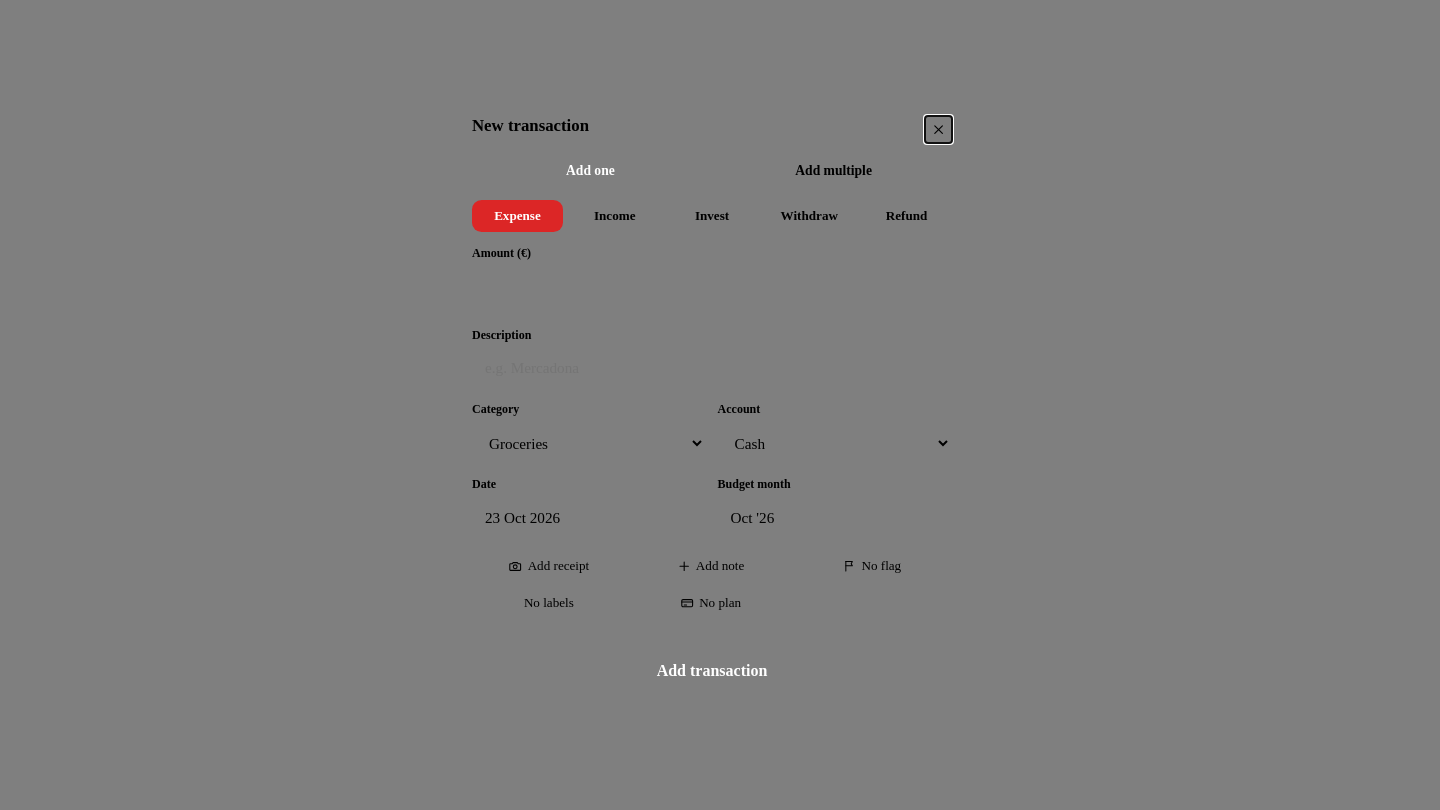
Scenario: TransactionModal — batch mode toggle › switches to the batch form and back via the toggle
This screenshot has width=1440, height=810.
Click the tab "Add multiple" at (834, 171), box [715,155,952,187]
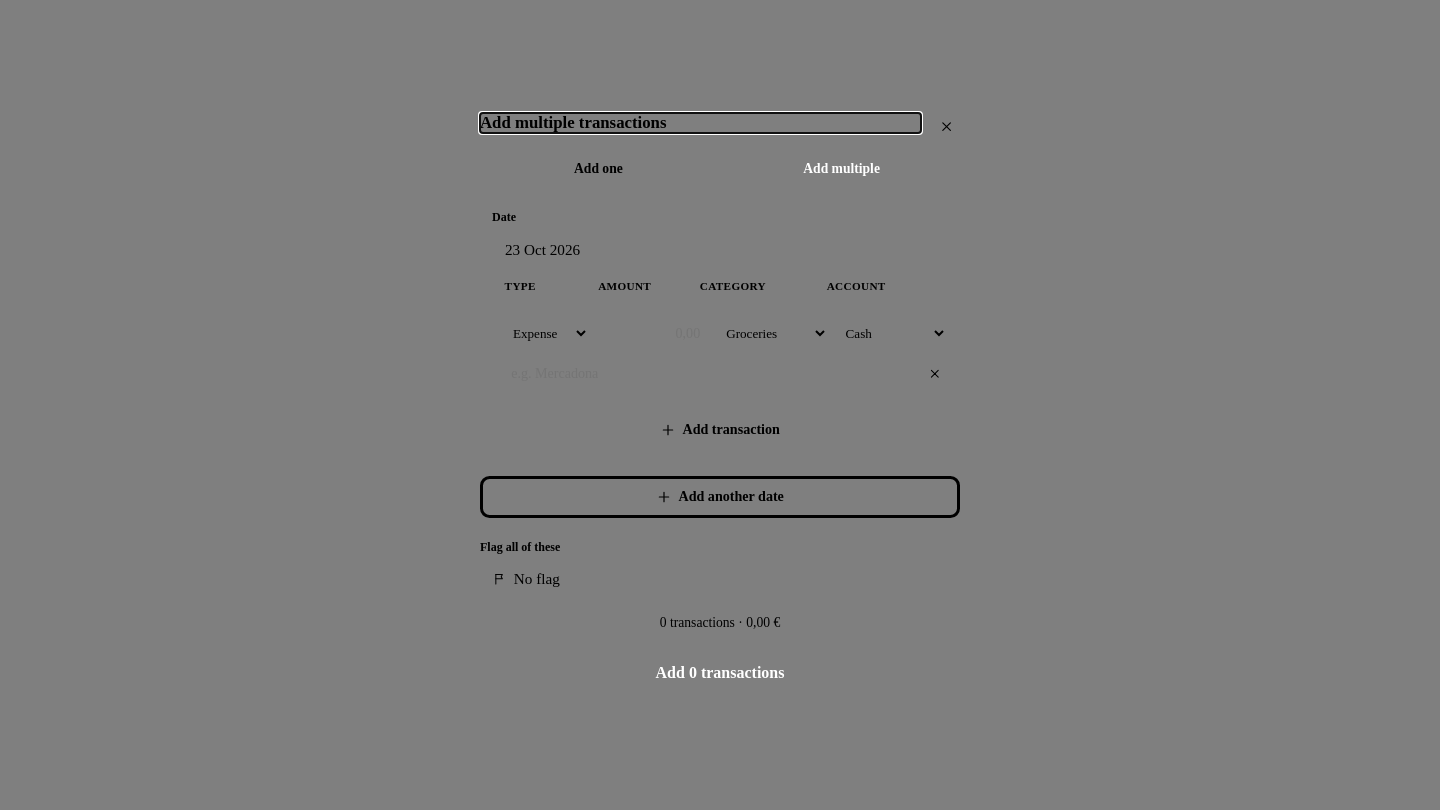
Now the heading "Add multiple transactions" is shown, box [480,114,666,132]
Click the tab "Add one" at (598, 169), box [480,153,717,185]
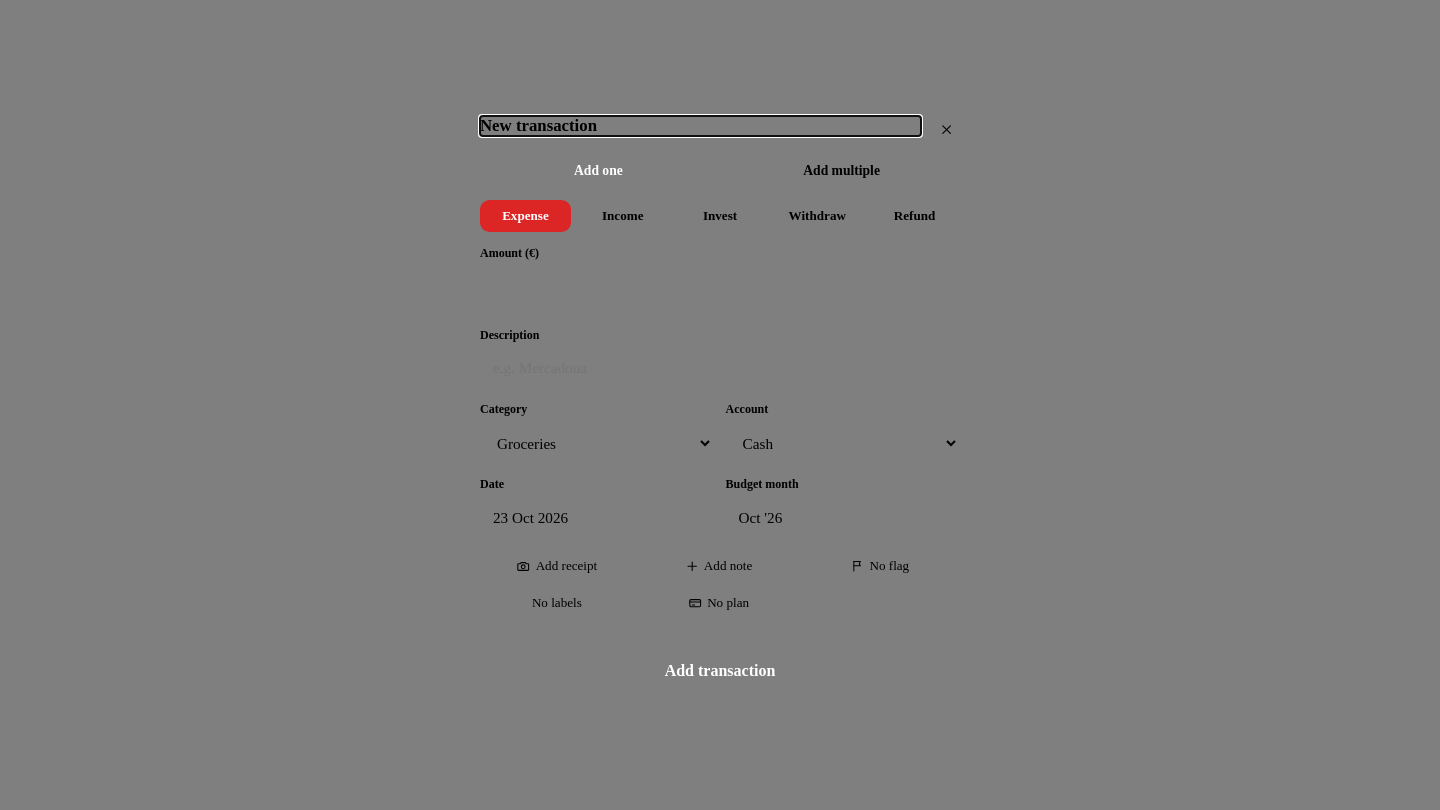
Now the heading "New transaction" is shown, box [480,116,597,135]
